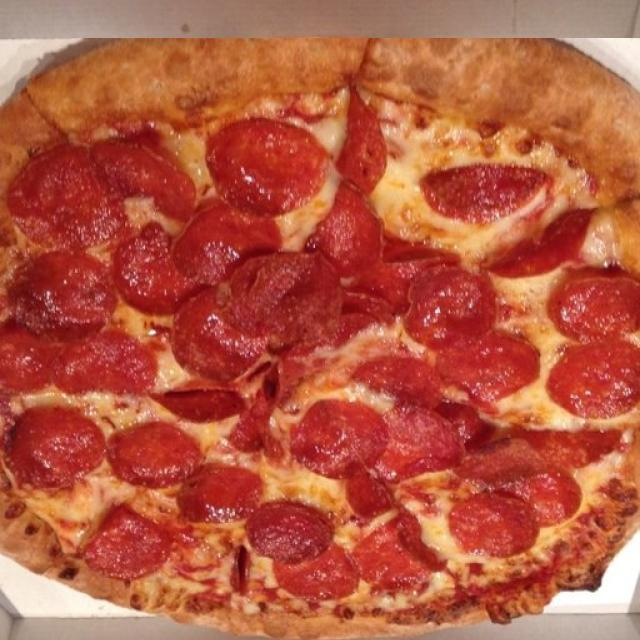pepperoni: (0, 38, 640, 640), (518, 426, 629, 536), (313, 460, 436, 555), (298, 332, 424, 421), (528, 333, 633, 428), (358, 392, 470, 474), (378, 296, 470, 390), (537, 190, 636, 271), (143, 328, 234, 414), (0, 260, 96, 338), (94, 456, 220, 514), (255, 200, 347, 279), (338, 224, 414, 318), (195, 85, 286, 163), (100, 278, 204, 346), (483, 280, 585, 348), (48, 401, 154, 466), (257, 400, 328, 495), (473, 96, 556, 174), (0, 336, 92, 406), (456, 363, 526, 452), (438, 190, 532, 256), (176, 196, 257, 272), (104, 122, 193, 185), (306, 112, 395, 174), (252, 483, 302, 586), (379, 153, 462, 213), (281, 76, 368, 133), (98, 192, 185, 244), (60, 148, 135, 206), (585, 283, 640, 362), (199, 274, 289, 320), (394, 255, 489, 295), (243, 160, 296, 204)
